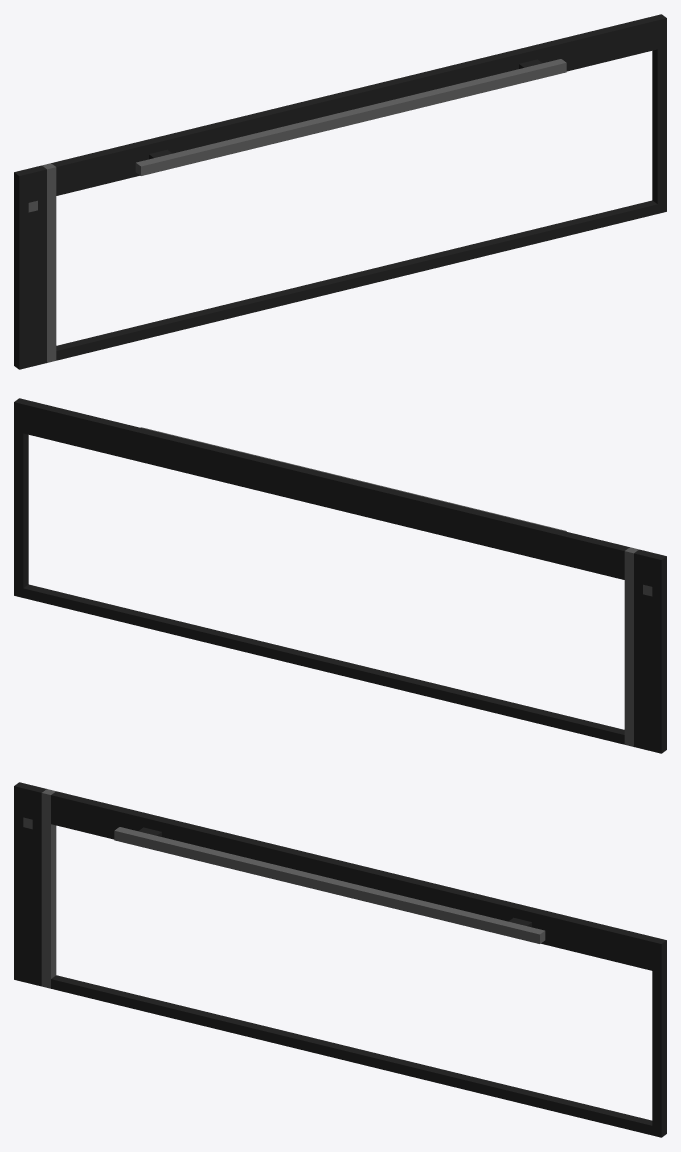
The model's file is oven_new-1.obj.
The picture shows the model from 3 angles, top to bottom: view 1: azimuth 30°, elevation 25°; view 2: azimuth 150°, elevation 25°; view 3: azimuth 330°, elevation 25°; orthographic projection.
Bounding box in the file's own units: 7 × 2 × 0.3.
1 material, 1 textured.
